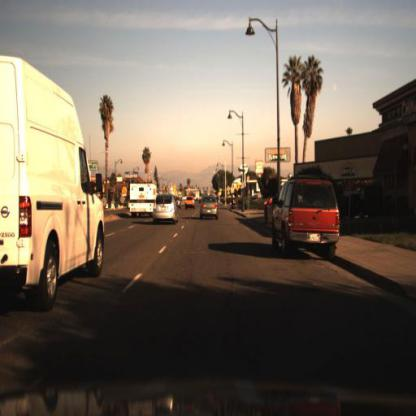car: (1, 20, 110, 324), (268, 179, 343, 256), (127, 171, 158, 222), (151, 191, 182, 231), (199, 200, 221, 226), (183, 190, 199, 215), (182, 193, 198, 215)
truck: (1, 53, 113, 323), (124, 181, 160, 225)
